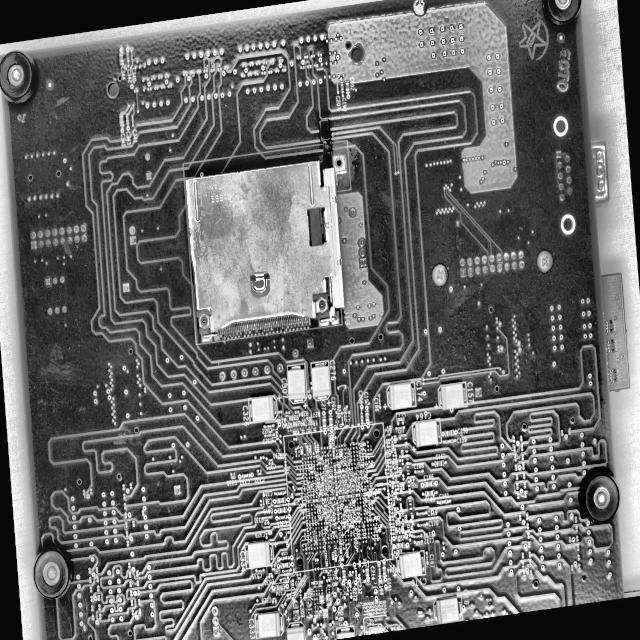PCB: (0, 1, 626, 640)
